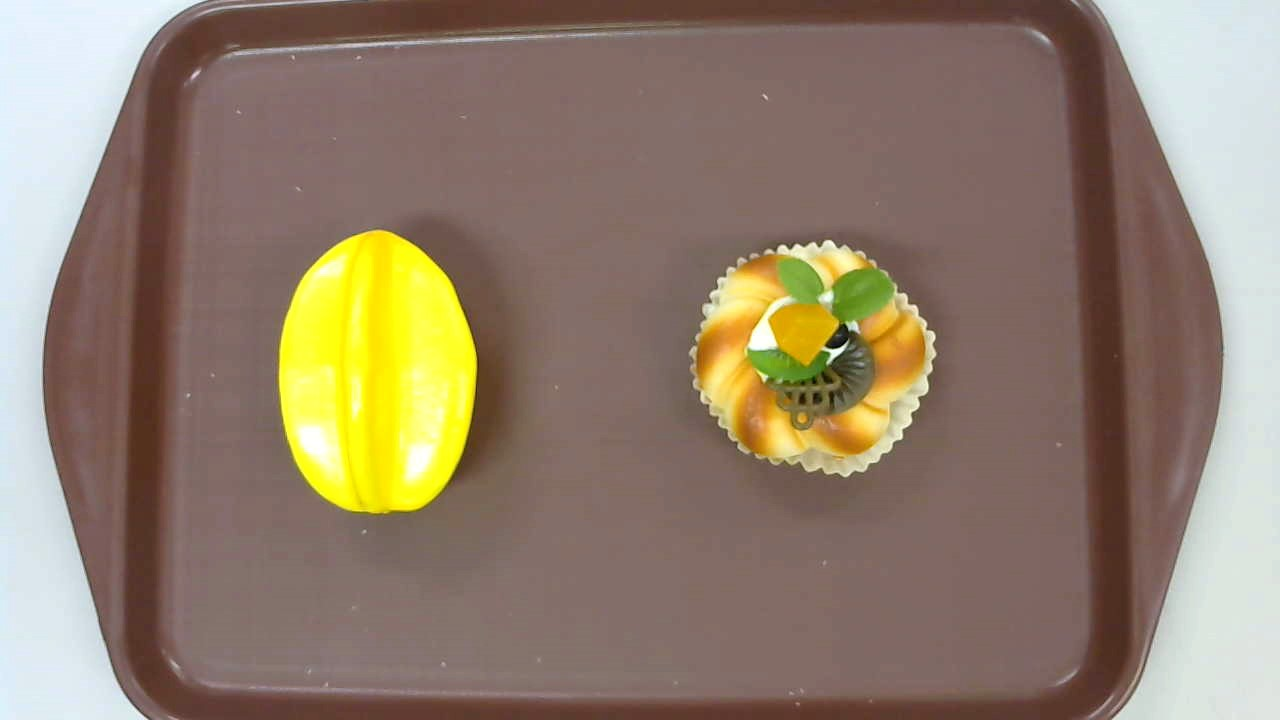fruit tart: (689, 239, 939, 480)
star fruit: (276, 229, 478, 512)
